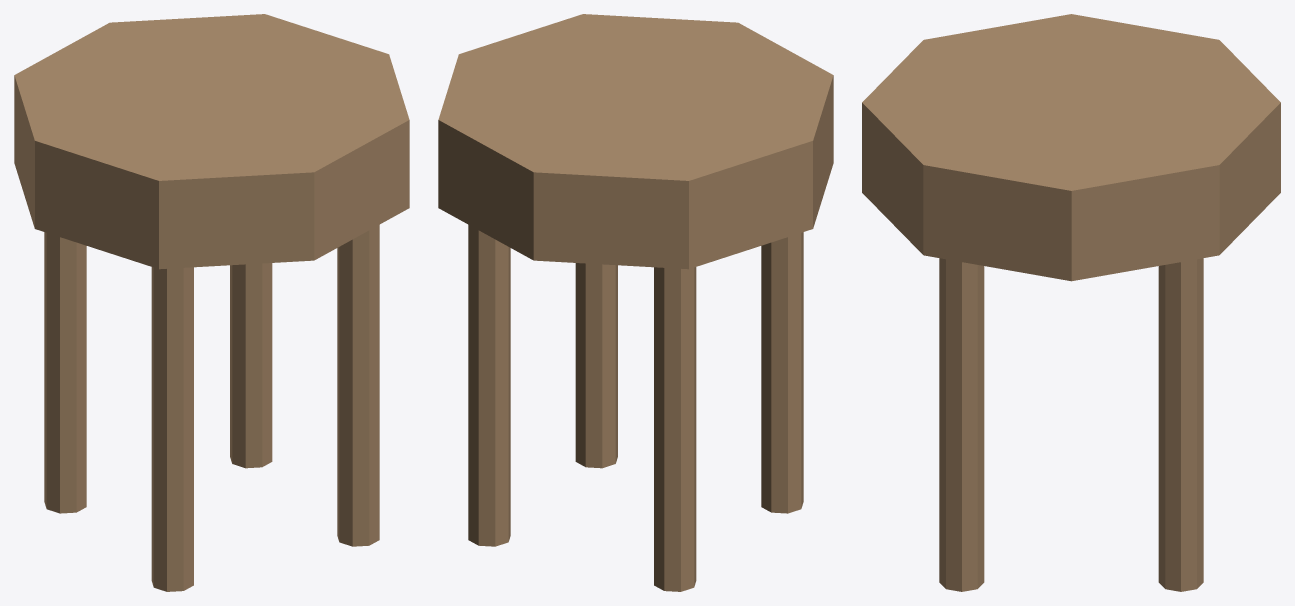
3 views of the same model, side by side, from view 1: azimuth 30°, elevation 25°; view 2: azimuth 150°, elevation 25°; view 3: azimuth 270°, elevation 25° (orthographic). The views are drawn at different scales.
Parts seen in each view (by area): view 1: Seat, Leg.2, Leg.4, Leg.1, Leg.3; view 2: Seat, Leg.1, Leg.3, Leg.2, Leg.4; view 3: Seat, Leg.3, Leg.4.
Part boxes in pixels (box(x1,y1,x2,y2)): Seat: box(14, 14, 409, 269); Leg.2: box(151, 267, 193, 591); Leg.4: box(337, 225, 379, 546); Leg.1: box(44, 232, 86, 513); Leg.3: box(230, 263, 272, 468); Seat: box(438, 14, 833, 269); Leg.1: box(654, 267, 696, 591); Leg.3: box(468, 225, 510, 546); Leg.2: box(761, 232, 803, 513); Leg.4: box(575, 263, 617, 468); Seat: box(862, 14, 1280, 281); Leg.3: box(1158, 258, 1203, 591); Leg.4: box(939, 258, 984, 591).
Size of the model in its own units: 0.42 by 0.48 by 0.42.
